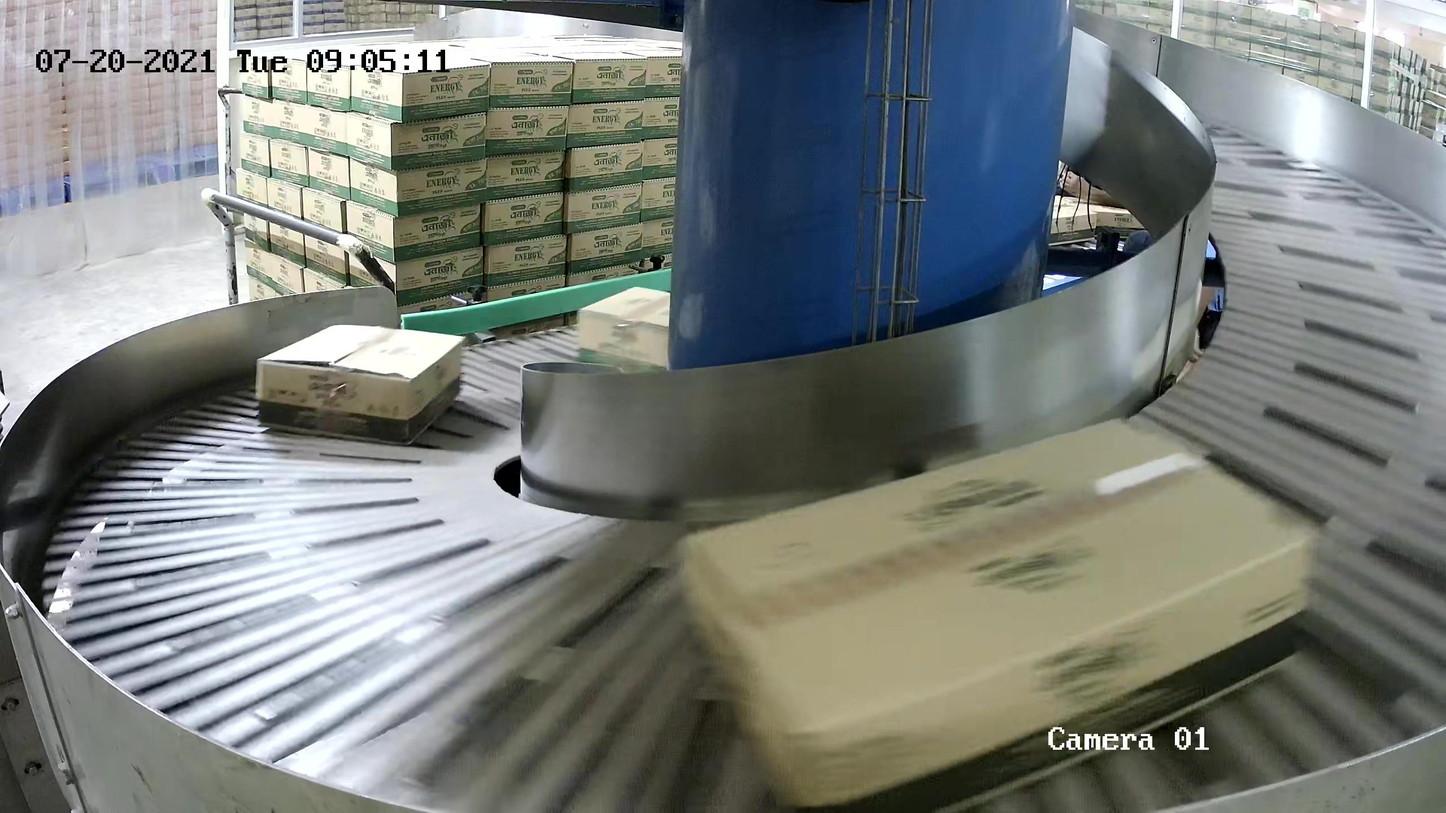Box: (675, 414, 1319, 813), (254, 323, 466, 445), (575, 285, 670, 376)
